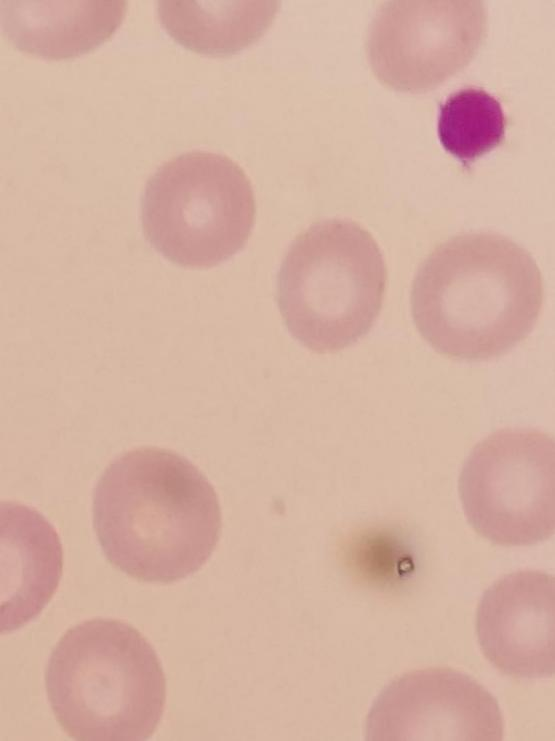Uninfected: (92, 450, 217, 581), (413, 233, 538, 359), (274, 219, 386, 350), (44, 618, 164, 739), (140, 150, 254, 265), (458, 431, 554, 545), (367, 0, 481, 88), (475, 571, 551, 678)
